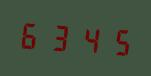five: (102, 21, 129, 59)
four: (74, 19, 101, 57)
six: (18, 16, 45, 53)
three: (46, 18, 73, 55)
